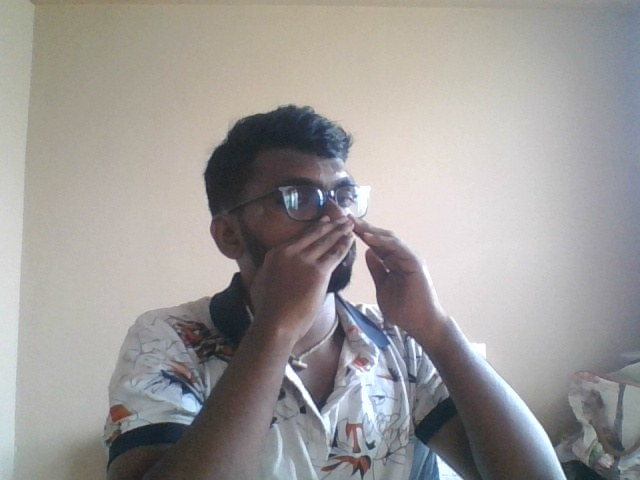Thank you: (259, 214, 473, 328)
